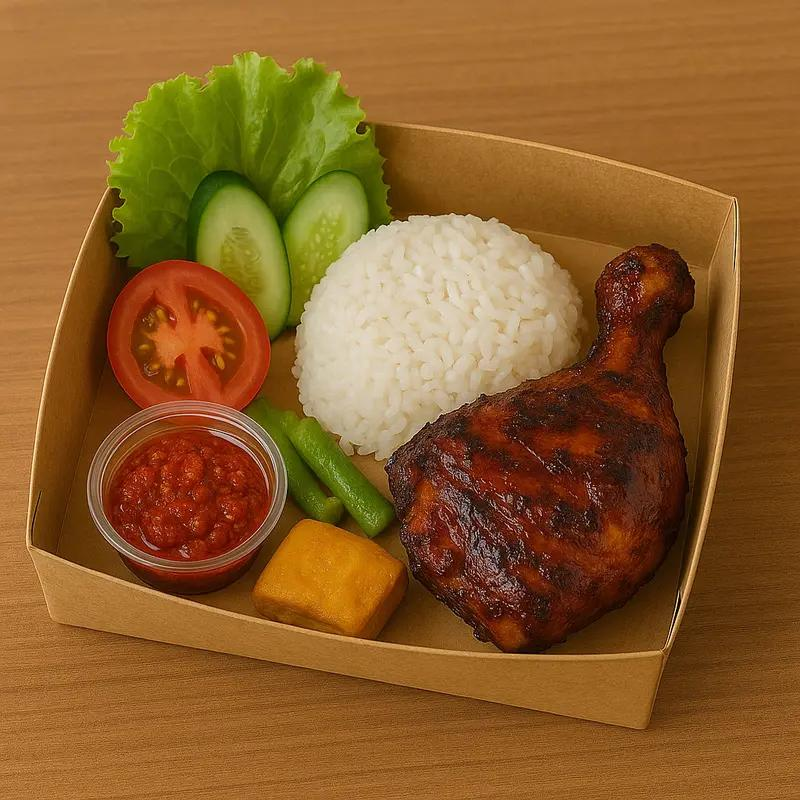buah_sayur_lainnya: (146, 101, 351, 254), (292, 447, 343, 513)
buah_sayur_vitA: (128, 279, 234, 396), (116, 459, 257, 540)
daging: (447, 427, 638, 589)
kacang_legume: (301, 529, 365, 608)
makanan_berpati: (361, 248, 522, 370)
